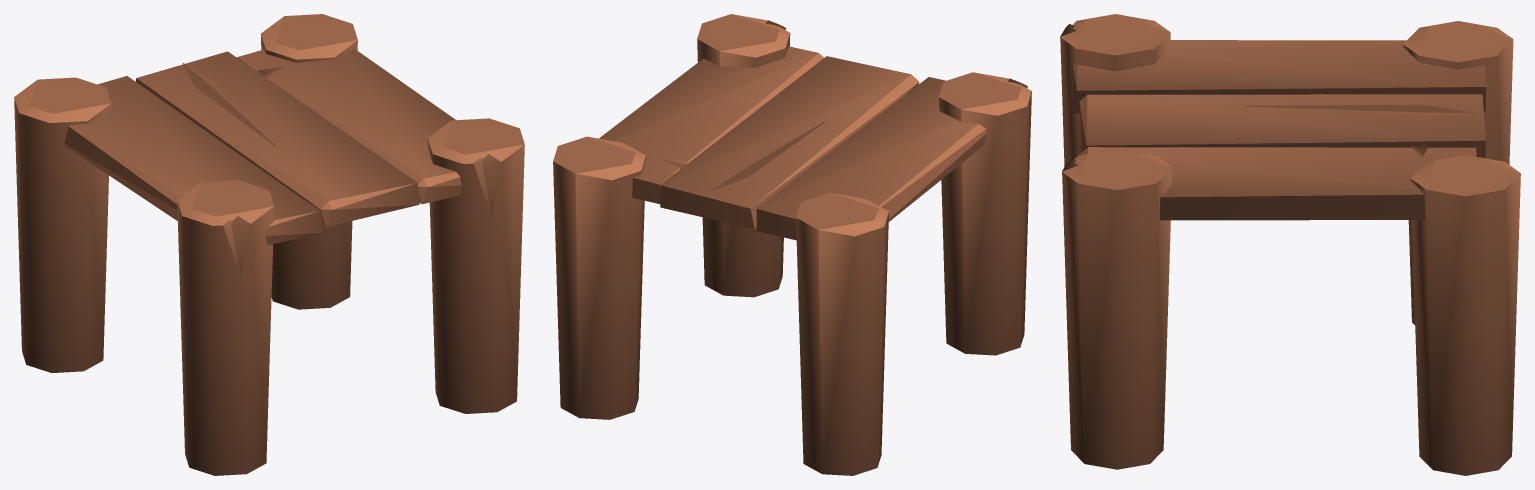
File: benchlittle.glb
The picture shows the model from 3 angles, left to right: view 1: azimuth 30°, elevation 25°; view 2: azimuth 150°, elevation 25°; view 3: azimuth 270°, elevation 25°; orthographic projection. The views are drawn at different scales.
Visible parts, largest first — view 1: benchlittle; view 2: benchlittle; view 3: benchlittle.
Boxes of the visible parts, x1,y1,x2,y2 form: benchlittle: (14,14,524,475); benchlittle: (553,14,1031,475); benchlittle: (1060,14,1520,475).
Size of the model in its own units: 0.6867 by 0.5084 by 0.7226.
Materials: 1 (1 with a texture image).
